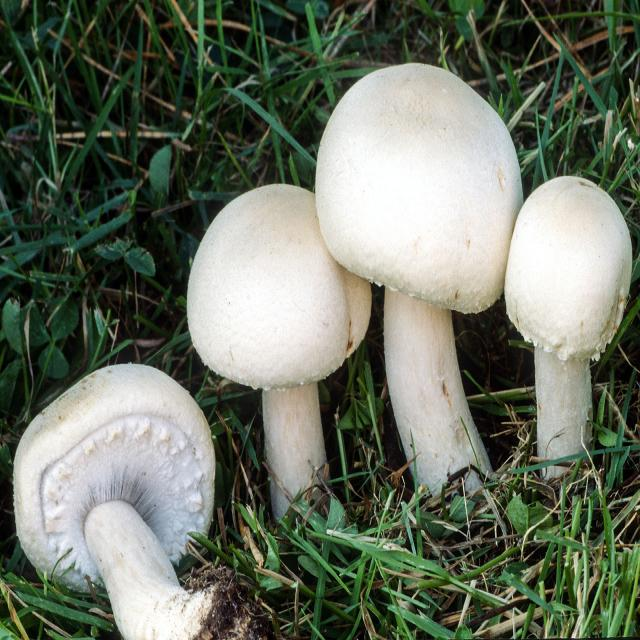field-mushroom: (312, 63, 524, 495), (186, 185, 372, 503), (13, 364, 217, 640), (503, 177, 634, 464)
